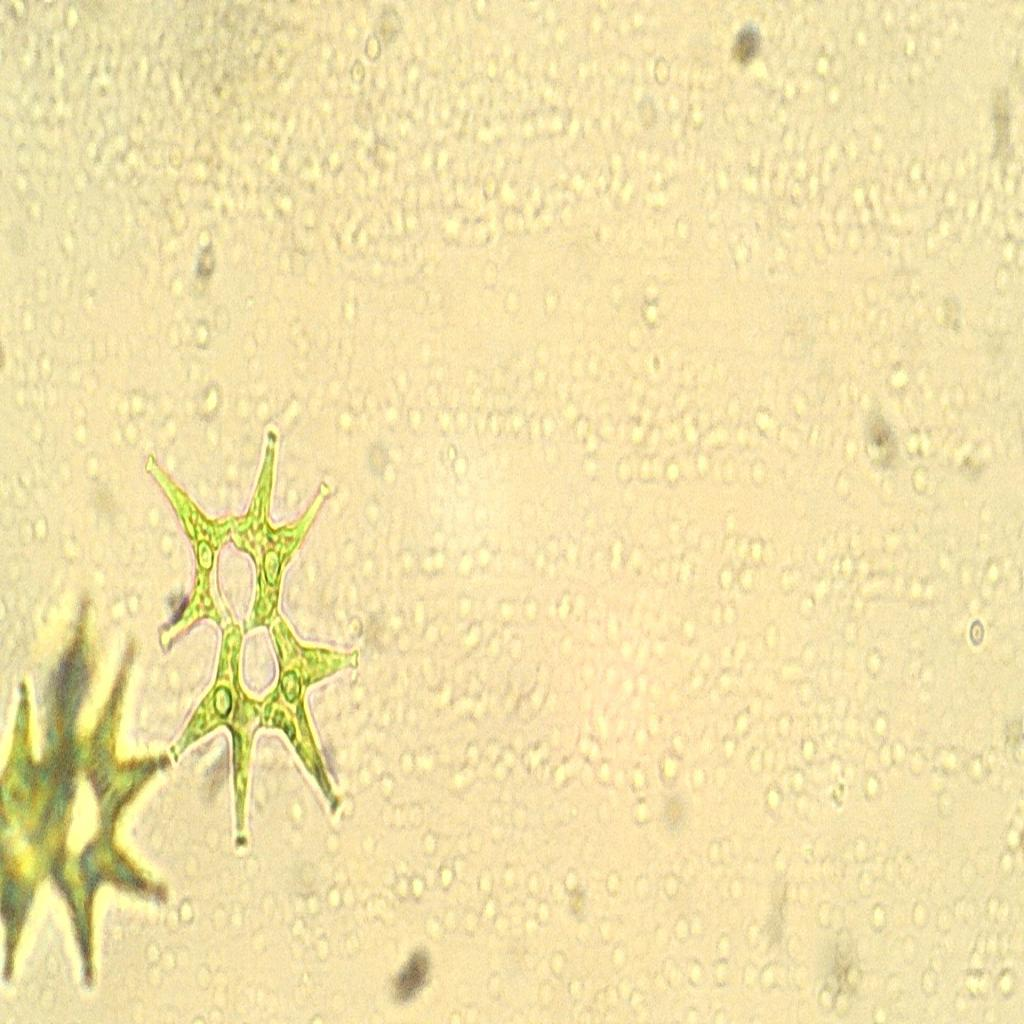Pediastrum_75FO: (138, 396, 375, 870)
